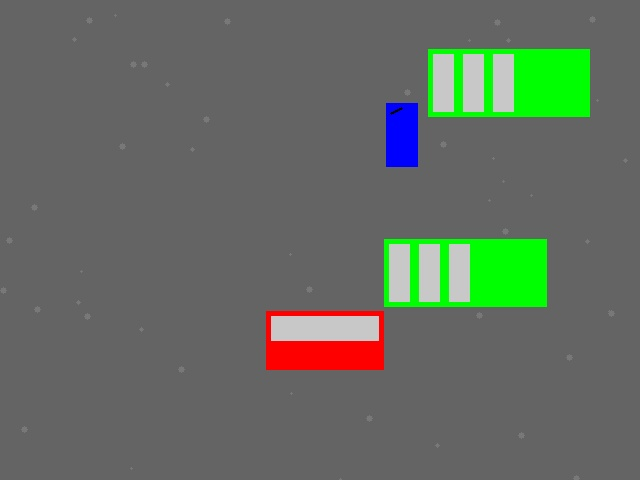bus: (384, 239, 546, 306), (428, 49, 589, 116)
car: (266, 311, 383, 369)
motorcycle: (386, 103, 417, 166)
